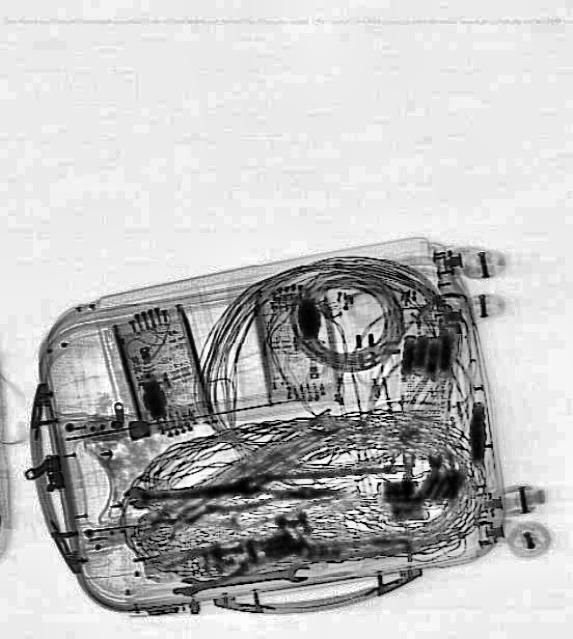Wrench: (168, 560, 310, 598), (124, 474, 260, 508)
